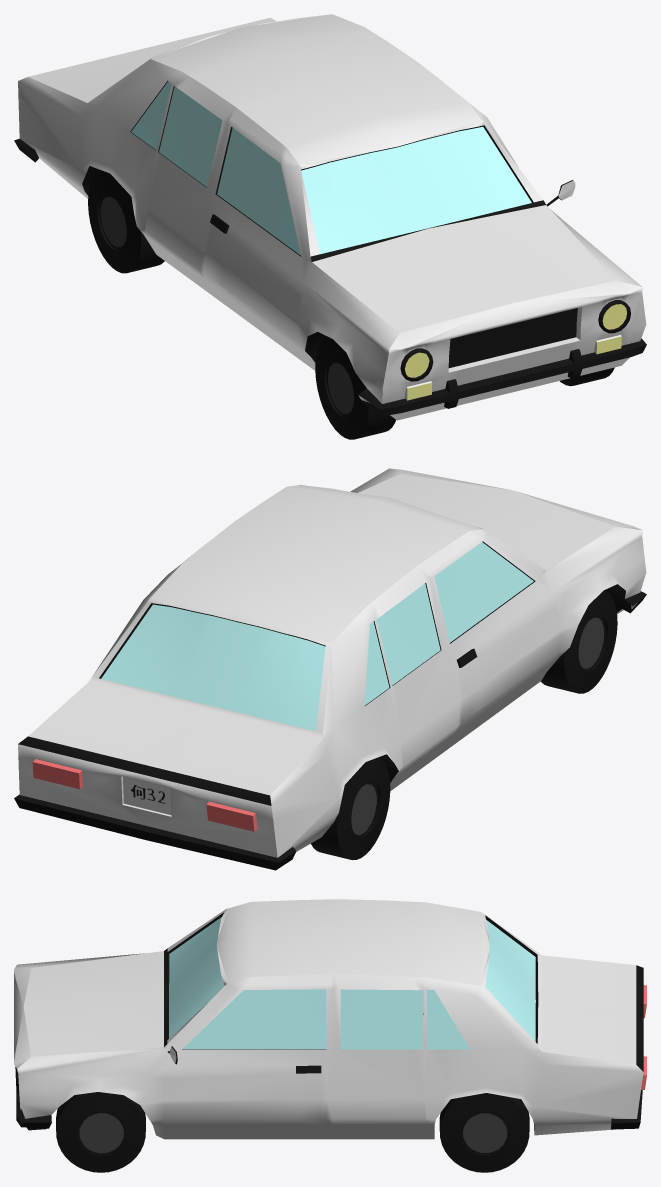
The model's file is Car02.fbx.
3 views of the same model, one above another, from view 1: azimuth 30°, elevation 25°; view 2: azimuth 150°, elevation 25°; view 3: azimuth 270°, elevation 25° (orthographic). The views are drawn at different scales.
Visible parts, largest first — view 1: Car; view 2: Car; view 3: Car.
Boxes of the visible parts, box(x1,y1,x2,y2) form: Car: box(14, 14, 646, 439); Car: box(14, 468, 646, 870); Car: box(14, 899, 646, 1172).
Bounding box in the file's own units: 3.75 × 2.79 × 8.38.
1 material, 1 textured.
